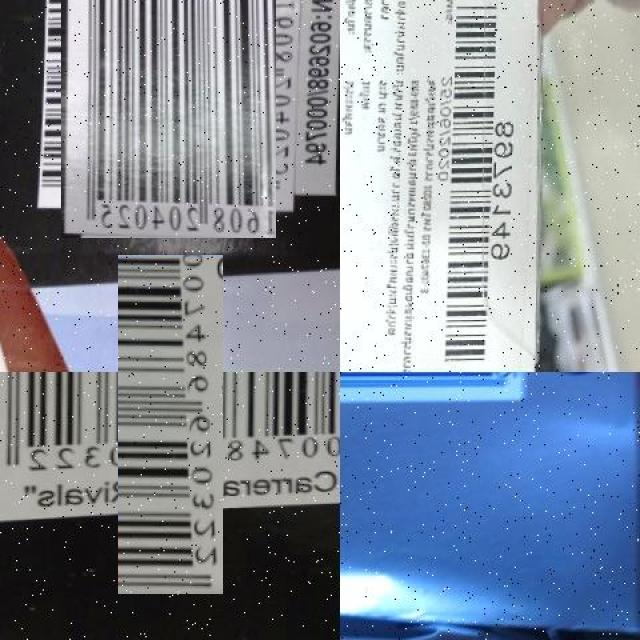Barcode: (50, 0, 288, 227), (59, 313, 281, 536), (440, 0, 519, 372)
